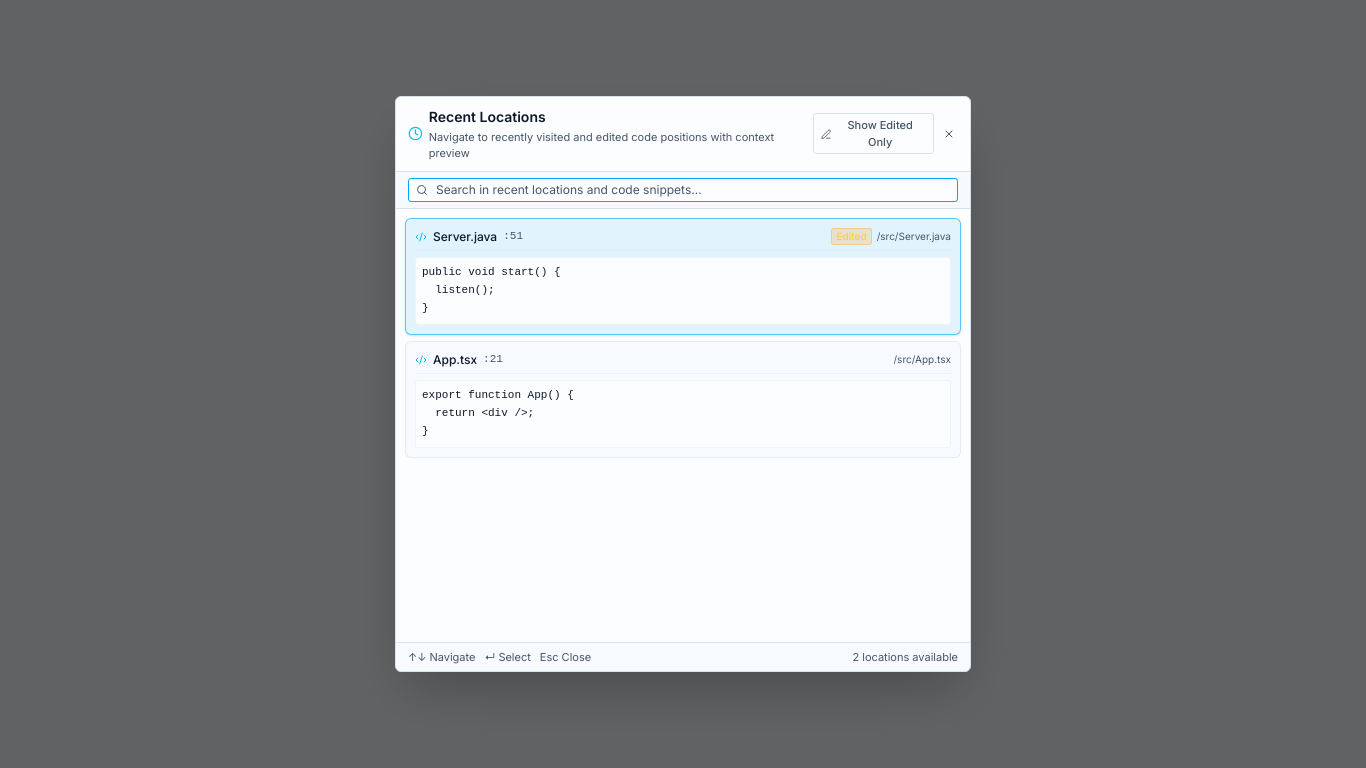
Test: RecentLocationsDialog › filters locations when typing search query
Type "Server" into the field with test id "recent-locations-search-input". click: (683, 190)
box: [408,178,958,202]
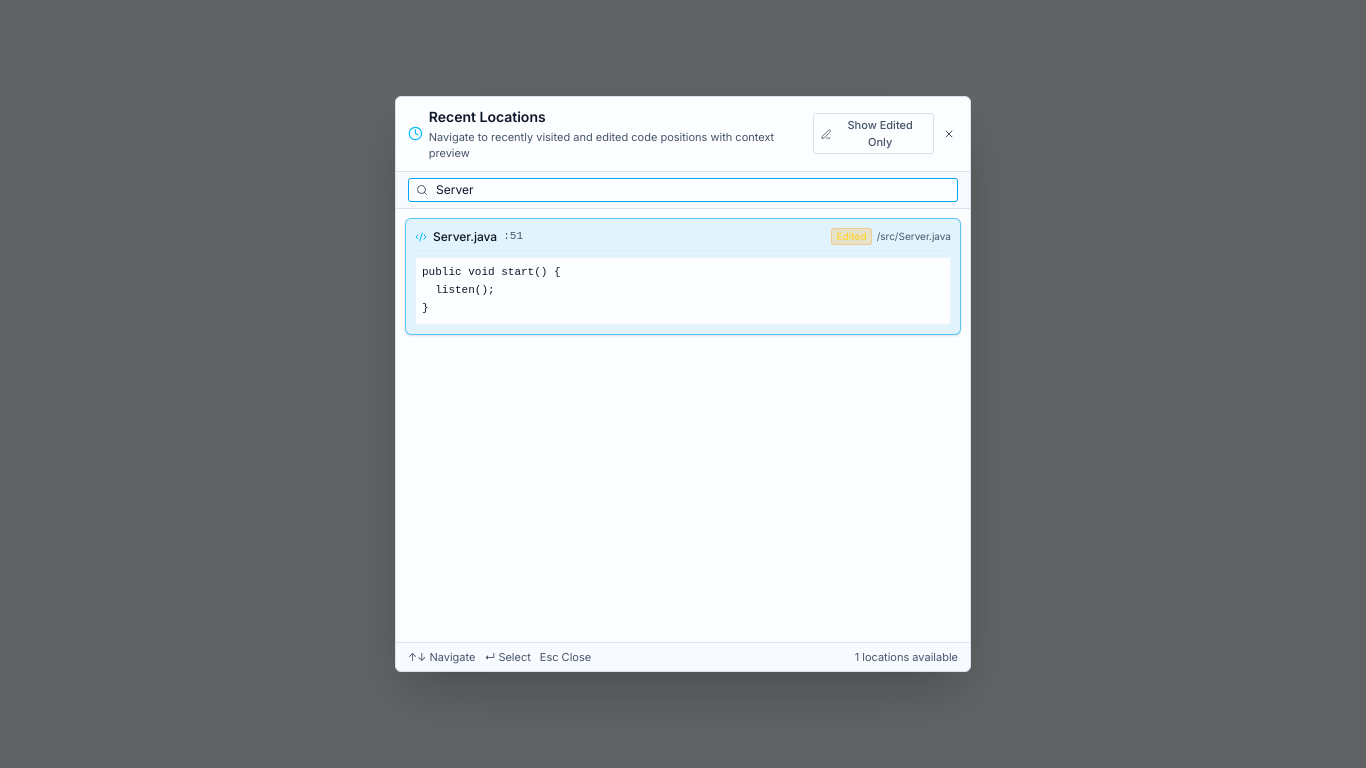
Expected: the text "Server.java" is shown, [433,228,497,246]
Now the text "App.tsx" is gone
